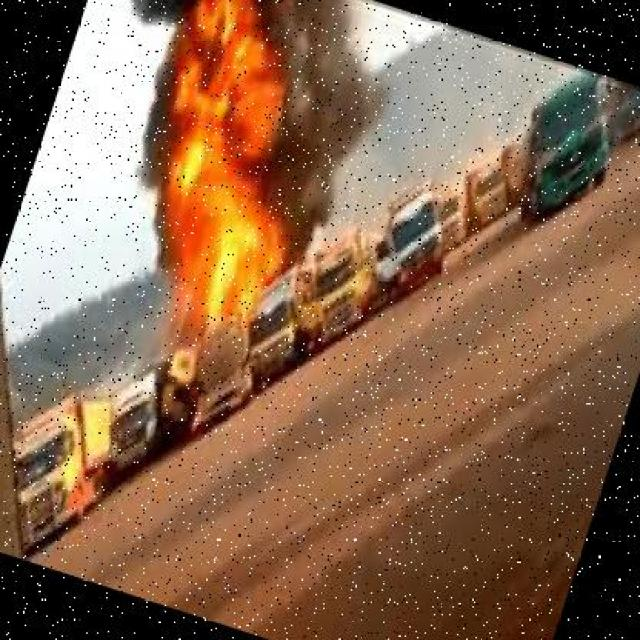fire: (67, 0, 383, 352)
